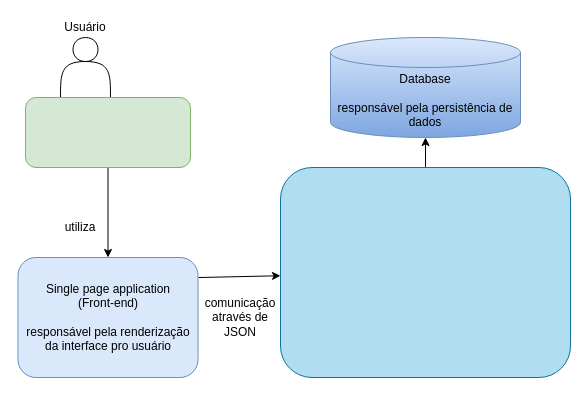
The diagram is 588 pixels wide and 395 high, and some of its shapes have lost their labels. The centre of each missing label's shape, as x and y in pixels:
API Rest (Back-end) responsável pelas regras de negócio: the point at 425,272
autenticação, cadastro de livros, anotações e importação de arquivo: the point at 107,132
